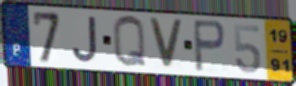5: (232, 22, 263, 74)
7: (32, 9, 62, 64)
J: (71, 15, 100, 65)
P: (191, 18, 228, 74)
Q: (111, 14, 149, 70)
V: (146, 16, 185, 72)
